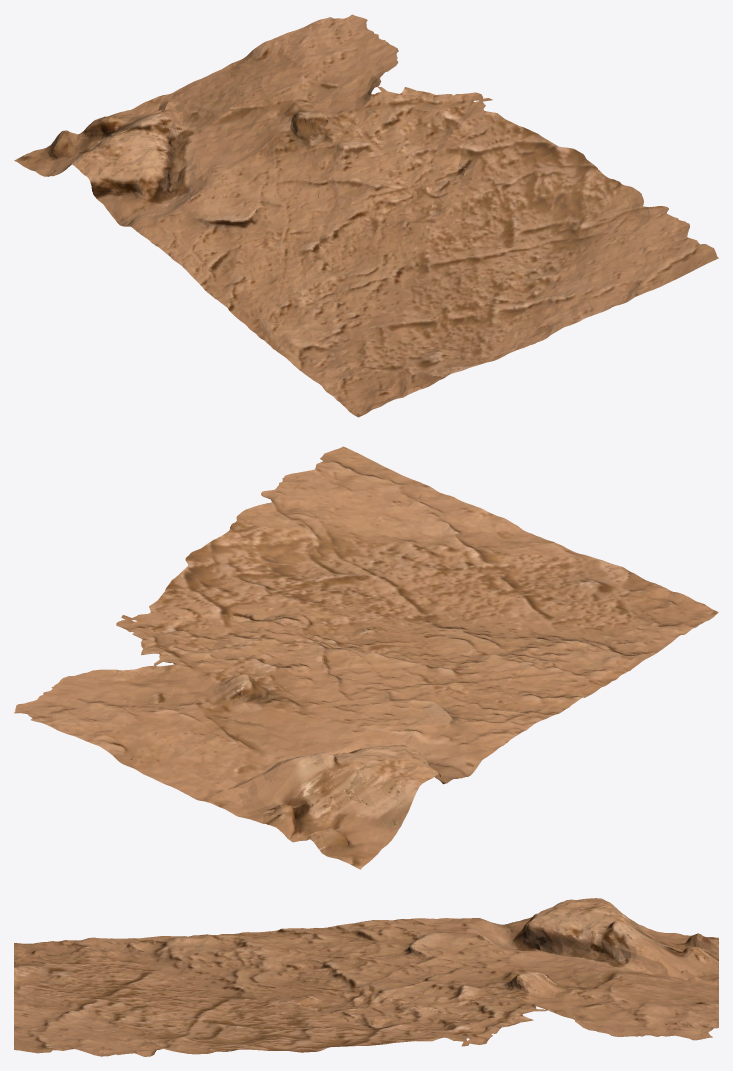
The picture shows the model from 3 angles, top to bottom: view 1: azimuth 30°, elevation 25°; view 2: azimuth 150°, elevation 25°; view 3: azimuth 270°, elevation 25°; orthographic projection. The views are drawn at different scales.
Size of the model in its own units: 0.6557 by 0.1209 by 1.04.
2 materials, 2 textured.
